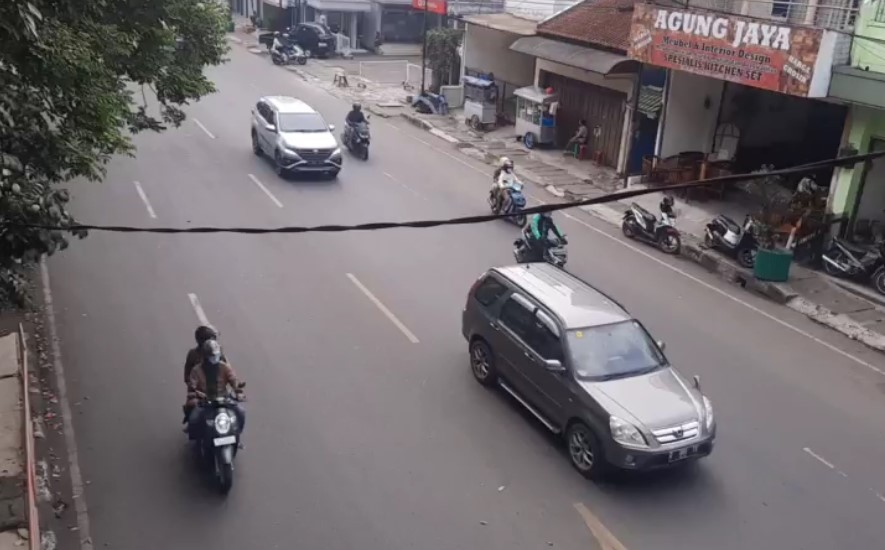mobil: (460, 262, 722, 473), (243, 97, 341, 182)
motor: (157, 326, 254, 481), (509, 210, 574, 265), (489, 158, 531, 226), (343, 103, 374, 159)
